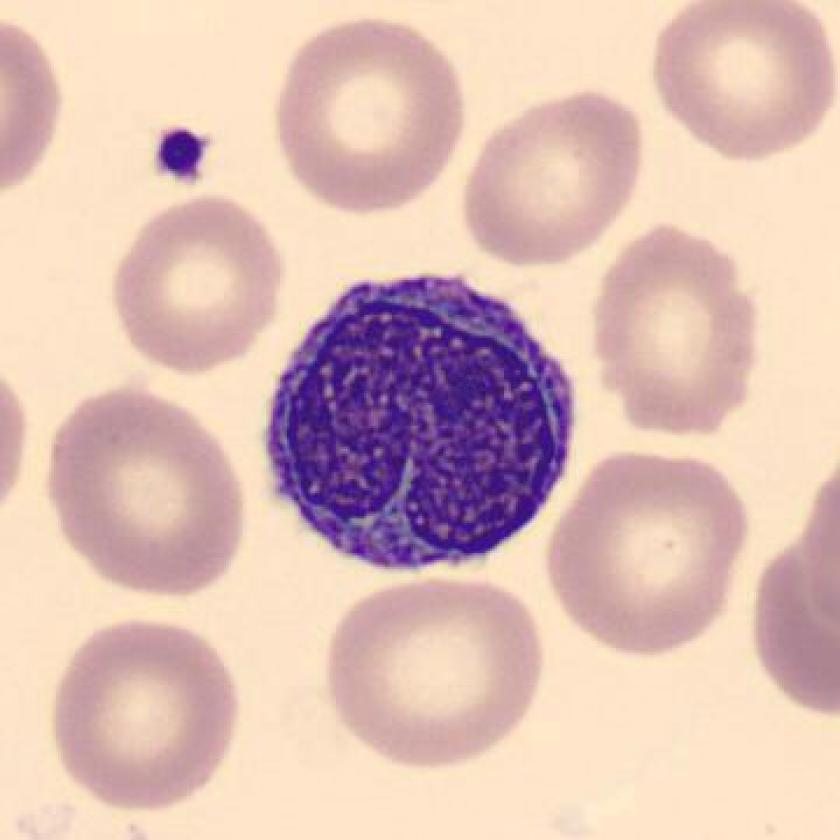monocyte: (251, 253, 589, 589)
